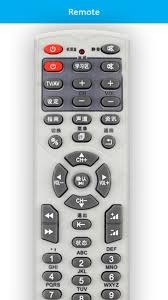remote control: (35, 35, 131, 300)
